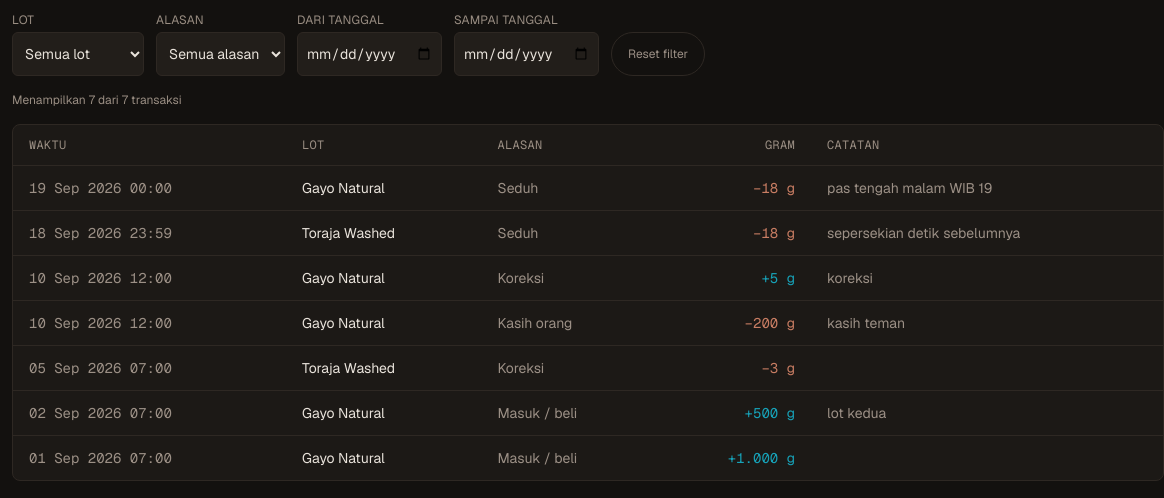
Test: HistoryList filter lot (berdasarkan ID) › memilih salah satu dari dua lot bernama sama menampilkan hanya transaksi lot itu
Select "Gayo Natural" in the dropdown labelled "Lot" at (78, 54), box [12,32,144,76]
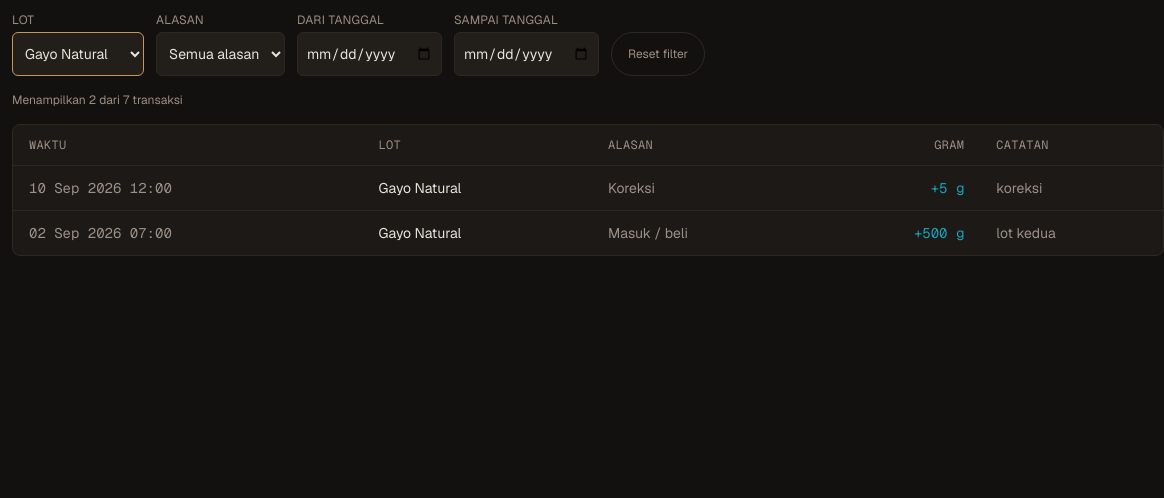
Now the text "lot kedua" is shown 2 times
Now the text "koreksi" is shown 2 times
Now the text "kasih teman" is gone
